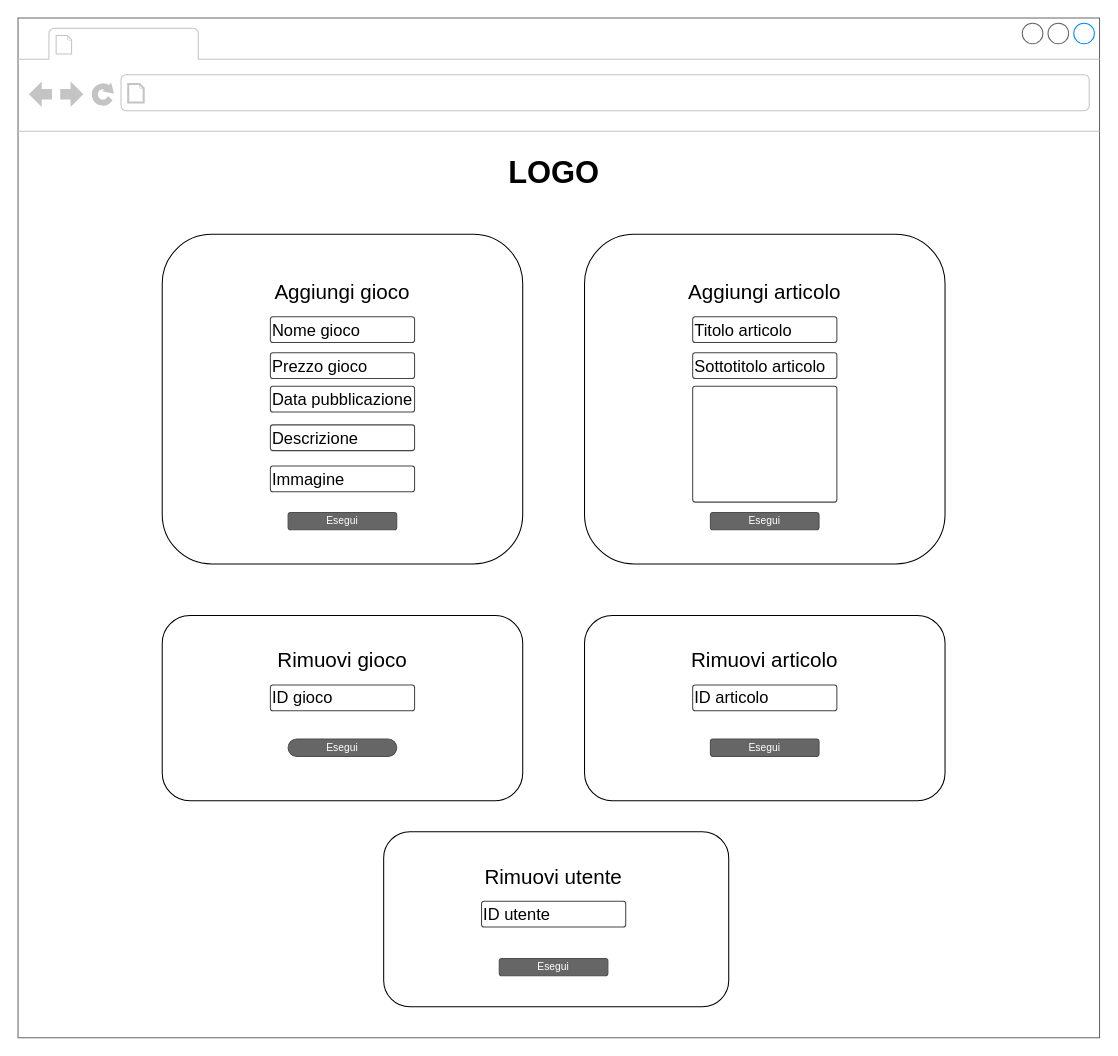
This 1118x1056 diagram has some shape labels left out. The shapes that lost their labels are listed below. From the top down, each one's box as (x1, y1, x2, y2) in pixels, then its label:
(79, 29, 193, 57): Page 1
(151, 79, 409, 107): https://www.default.com
(692, 385, 837, 502): Contenuto articolo
